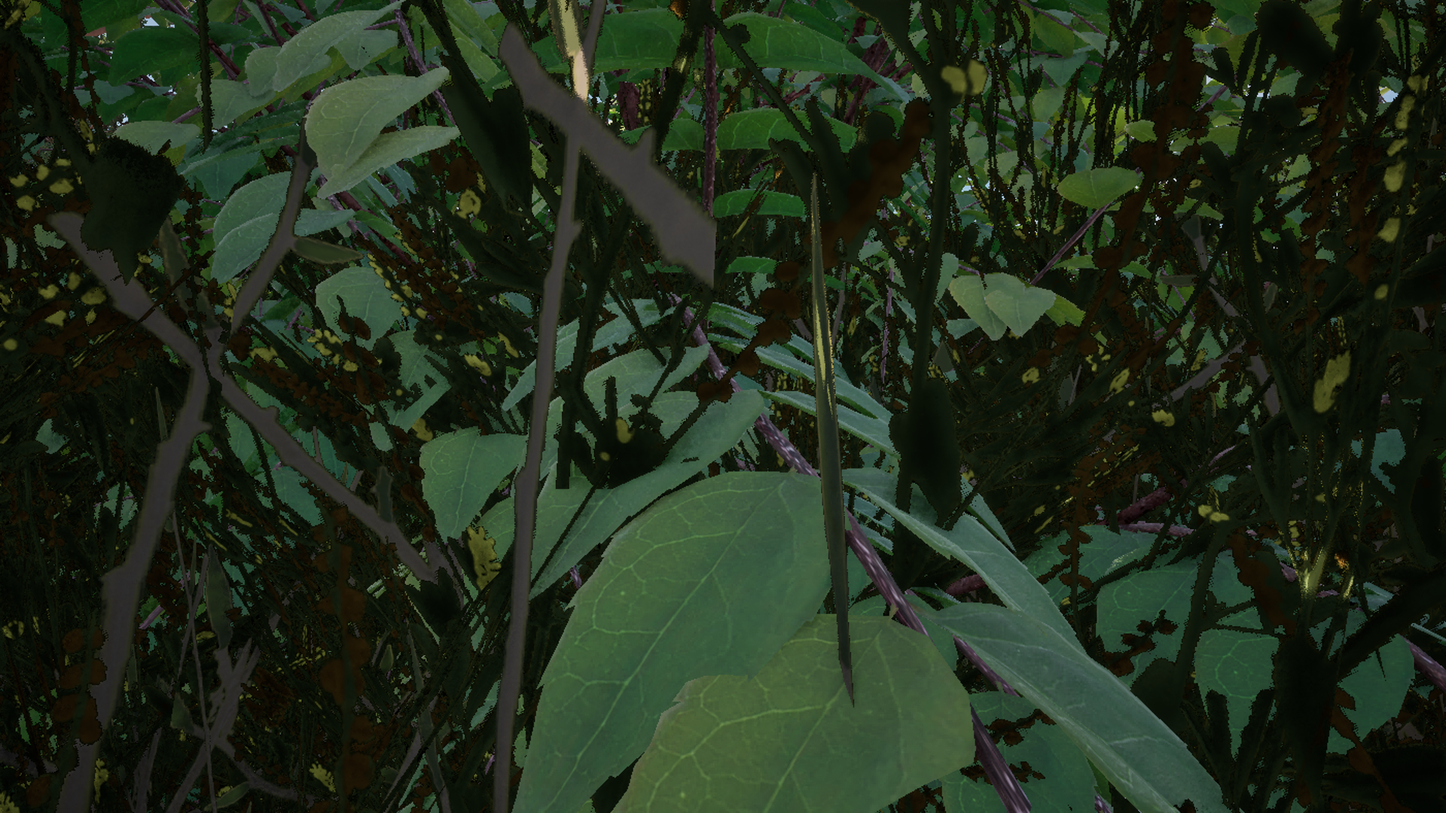Piplup: (371, 0, 1121, 813)
